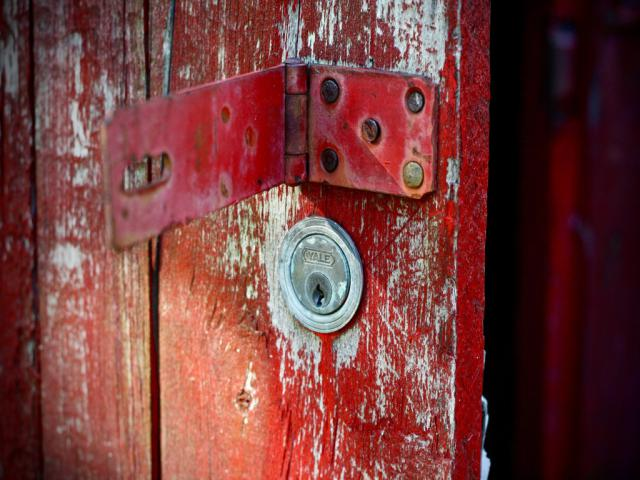Door-handle: (96, 51, 442, 259)
